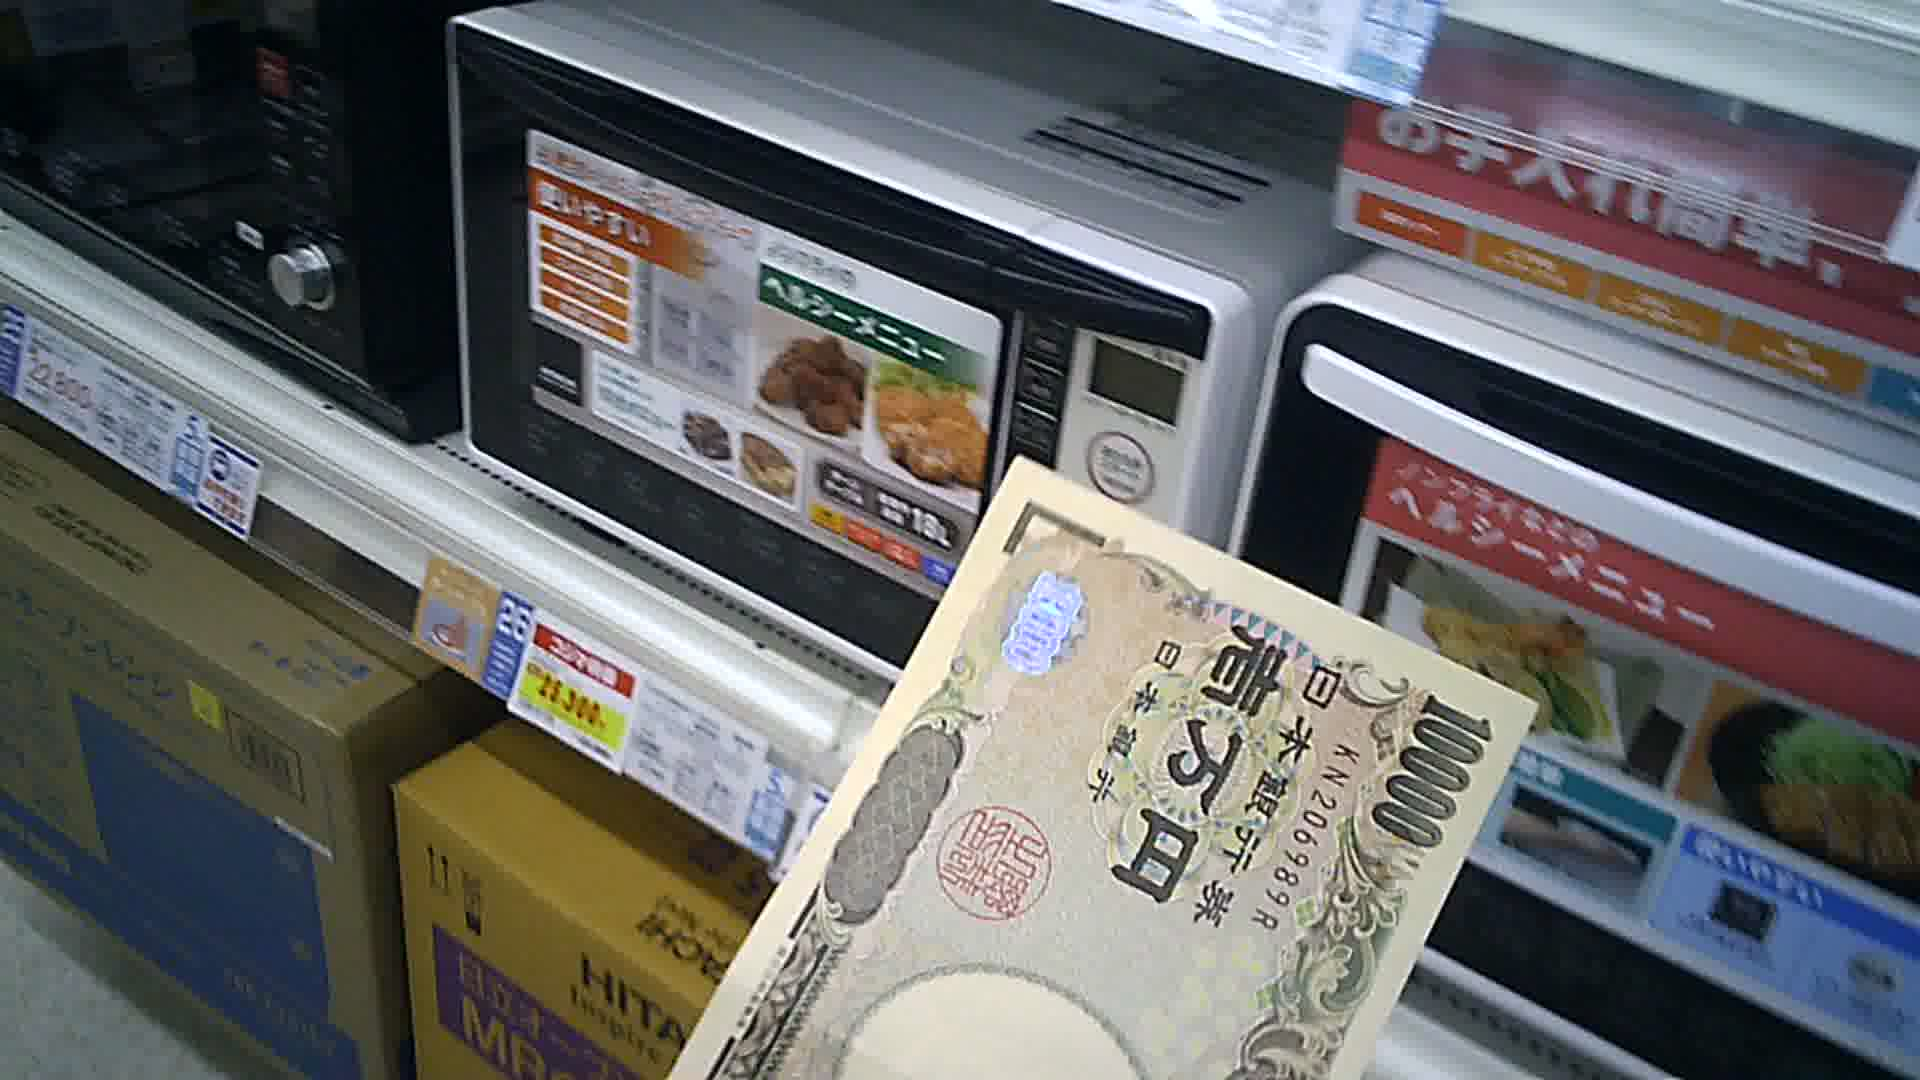10,000 Yen: (673, 468, 1545, 1079)
